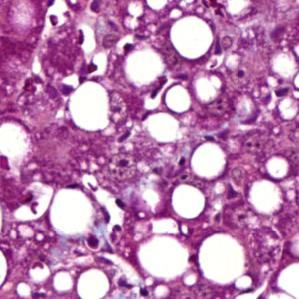steatosis: (196, 234, 250, 283), (68, 79, 115, 129), (138, 234, 192, 277), (51, 187, 94, 234), (172, 12, 211, 62), (169, 184, 210, 220), (246, 179, 285, 216), (190, 143, 230, 177), (76, 268, 114, 297), (167, 84, 192, 114), (265, 155, 290, 178)
